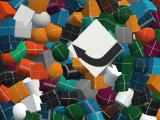Right: (68, 19, 124, 78)
